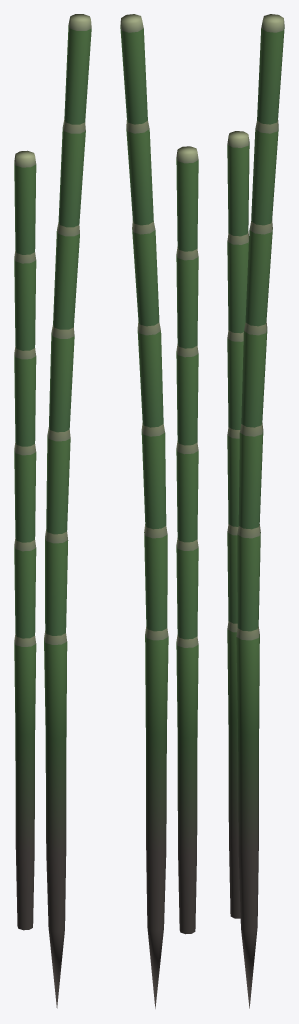
The picture shows the model from 3 angles, left to right: view 1: azimuth 30°, elevation 25°; view 2: azimuth 210°, elevation 25°; view 3: azimuth 330°, elevation 25°; orthographic projection.
Visible parts, largest first — view 1: base.586; view 2: base.586; view 3: base.586.
Part boxes in pixels (<box>): base.586: <box>14,14,91,1008</box>; base.586: <box>120,14,198,1008</box>; base.586: <box>227,14,284,1008</box>.
Size of the model in its own units: 0.0343 by 0.5 by 0.0203.
